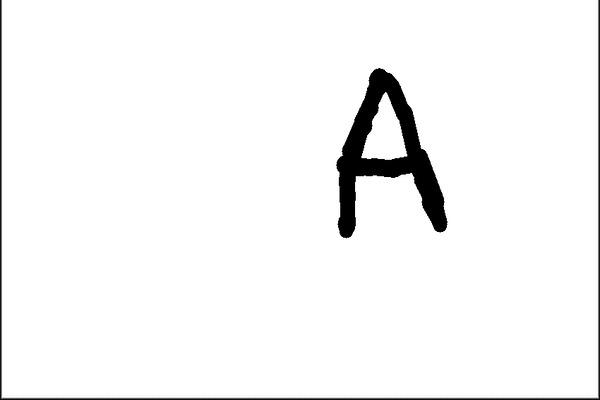A: (316, 67, 461, 244)
